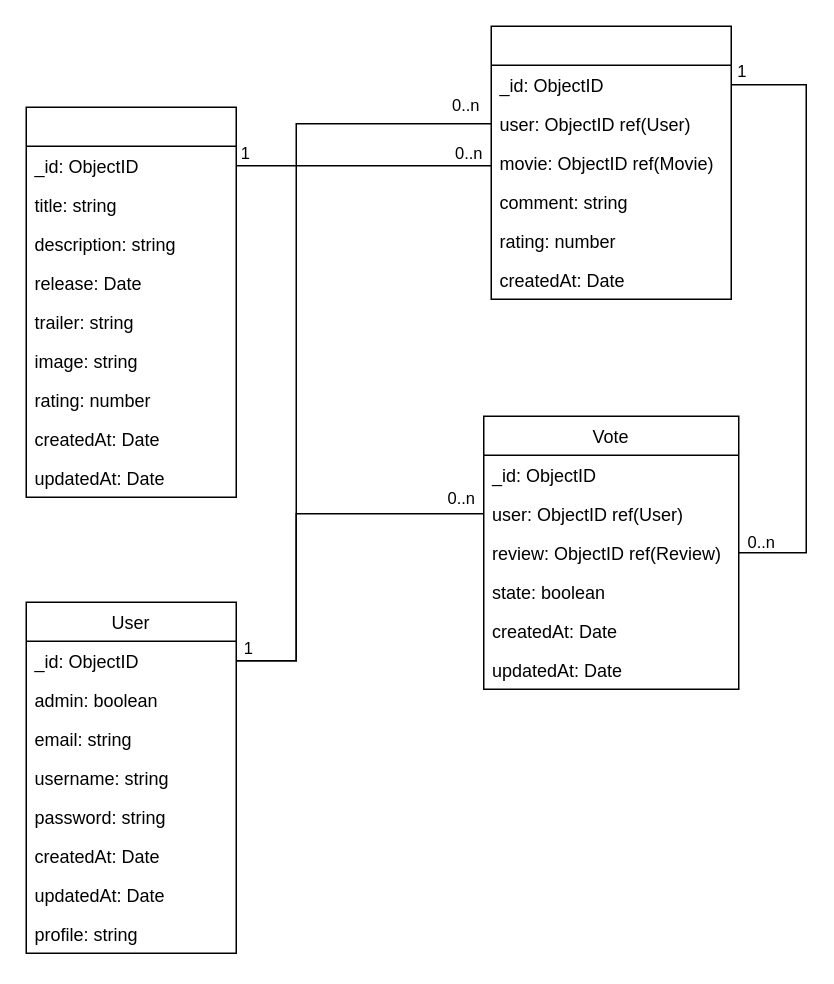
The diagram is 834 pixels wide and 984 high, and some of its shapes have lost their labels. Here are the shapes that lost their labels. From the top down, the box of each, then its label:
(490, 25, 731, 299): Review
(25, 106, 236, 497): Movie
